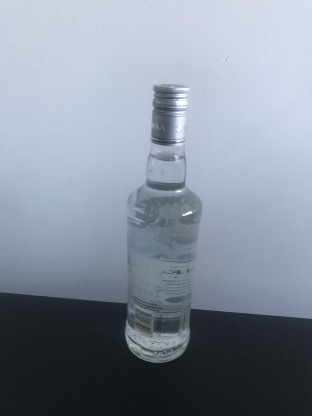nakretka: (149, 83, 191, 147)
